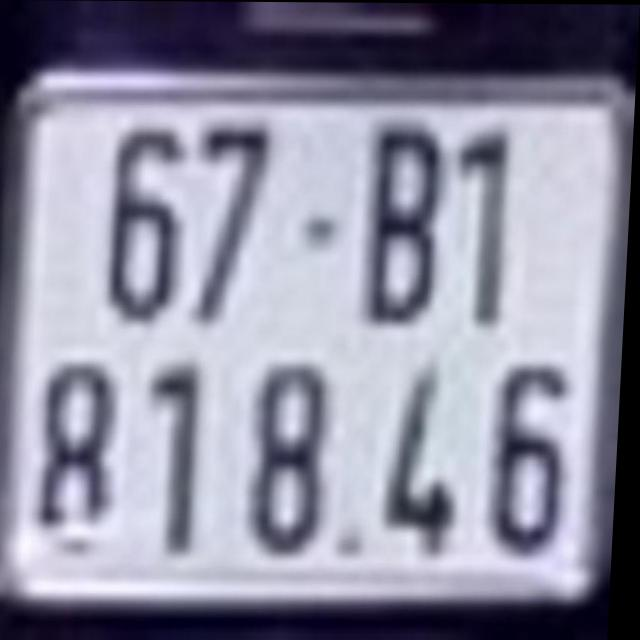1: (452, 119, 516, 336), (149, 351, 210, 559)
4: (394, 358, 468, 561)
6: (488, 357, 573, 558), (108, 124, 182, 312)
7: (197, 128, 268, 326)
8: (252, 364, 337, 551), (38, 362, 120, 553)
B: (372, 122, 444, 329)
